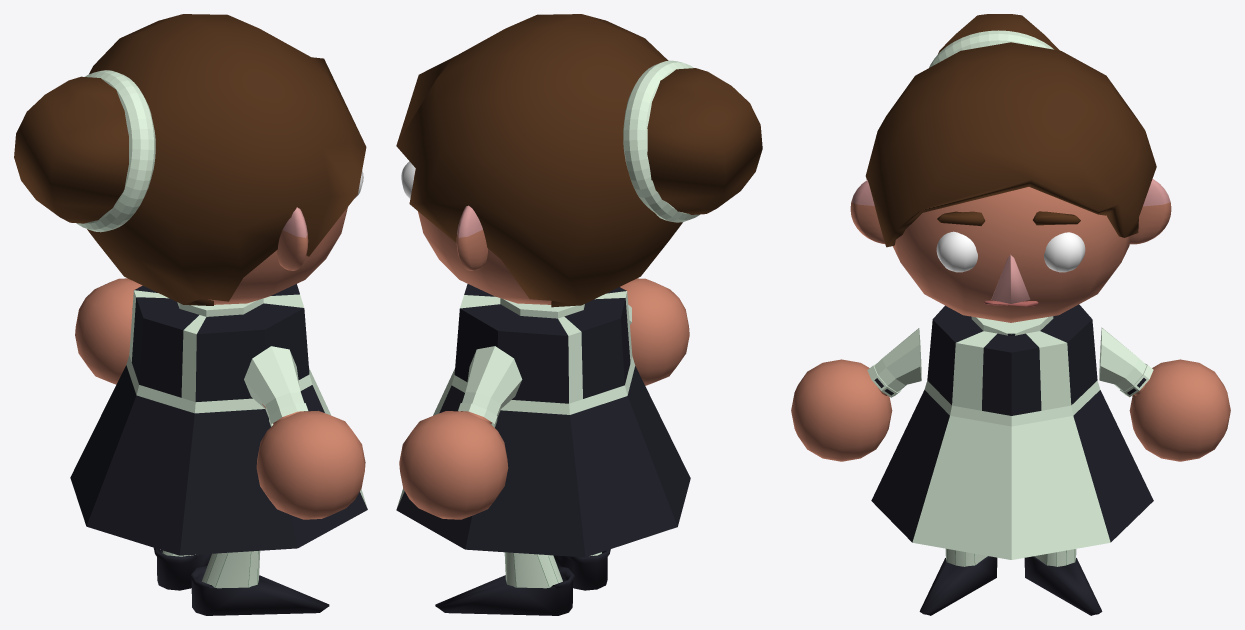
The model's file is Maid_v3.glb.
3 renders of one model, left to right at view 1: azimuth 30°, elevation 25°; view 2: azimuth 150°, elevation 25°; view 3: azimuth 270°, elevation 25°, orthographic. The views are drawn at different scales.
Parts seen in each view (by area): view 1: Hair.008, Maid_v3-col, right_arm-col.007, right_leg-col.007, left_arm-col.007, head-col.007, left_leg-col.007; view 2: Hair.008, Maid_v3-col, left_arm-col.007, left_leg-col.007, right_arm-col.007, head-col.007, right_leg-col.007; view 3: Maid_v3-col, Hair.008, head-col.007, left_arm-col.007, right_arm-col.007, right_leg-col.007, left_leg-col.007, Eyes.007.
Boxes of the visible parts, box(x1,y1,x2,y2) form: Hair.008: box(14, 14, 366, 305); Maid_v3-col: box(70, 284, 367, 555); right_arm-col.007: box(244, 346, 365, 519); right_leg-col.007: box(189, 550, 329, 615); left_arm-col.007: box(75, 278, 142, 384); head-col.007: box(208, 207, 347, 304); left_leg-col.007: box(153, 548, 211, 590); Hair.008: box(396, 14, 762, 307); Maid_v3-col: box(396, 284, 690, 557); left_arm-col.007: box(399, 346, 522, 519); left_leg-col.007: box(435, 552, 574, 615); right_arm-col.007: box(620, 278, 689, 385); head-col.007: box(414, 168, 551, 304); right_leg-col.007: box(553, 549, 610, 590); Maid_v3-col: box(871, 304, 1153, 559); Hair.008: box(865, 14, 1156, 247); head-col.007: box(850, 179, 1171, 322); left_arm-col.007: box(1099, 327, 1230, 461); right_arm-col.007: box(791, 328, 921, 461); right_leg-col.007: box(919, 548, 997, 615); left_leg-col.007: box(1024, 549, 1102, 615); Eyes.007: box(936, 231, 1085, 272).
Bounding box in the file's own units: 1.18 × 1.96 × 1.47.
